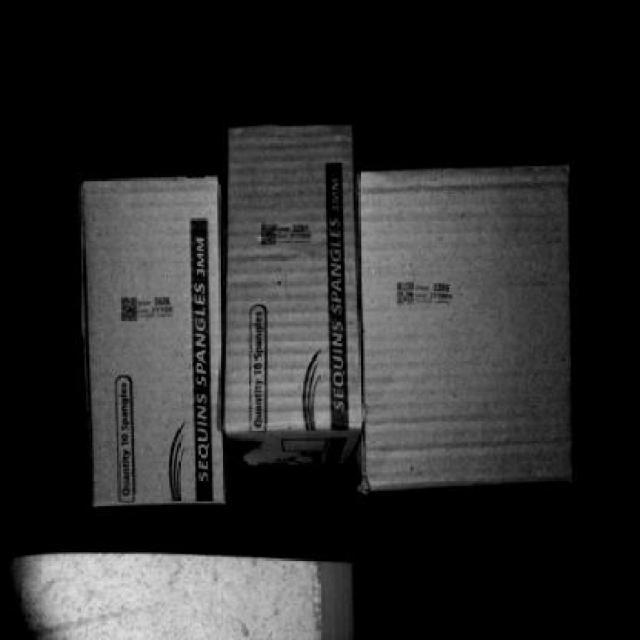box: (359, 167, 573, 484), (80, 178, 226, 504), (228, 116, 358, 430)
